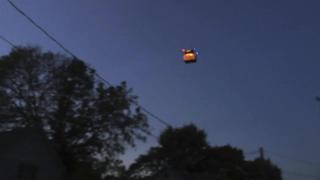UAV: (182, 47, 199, 64)
